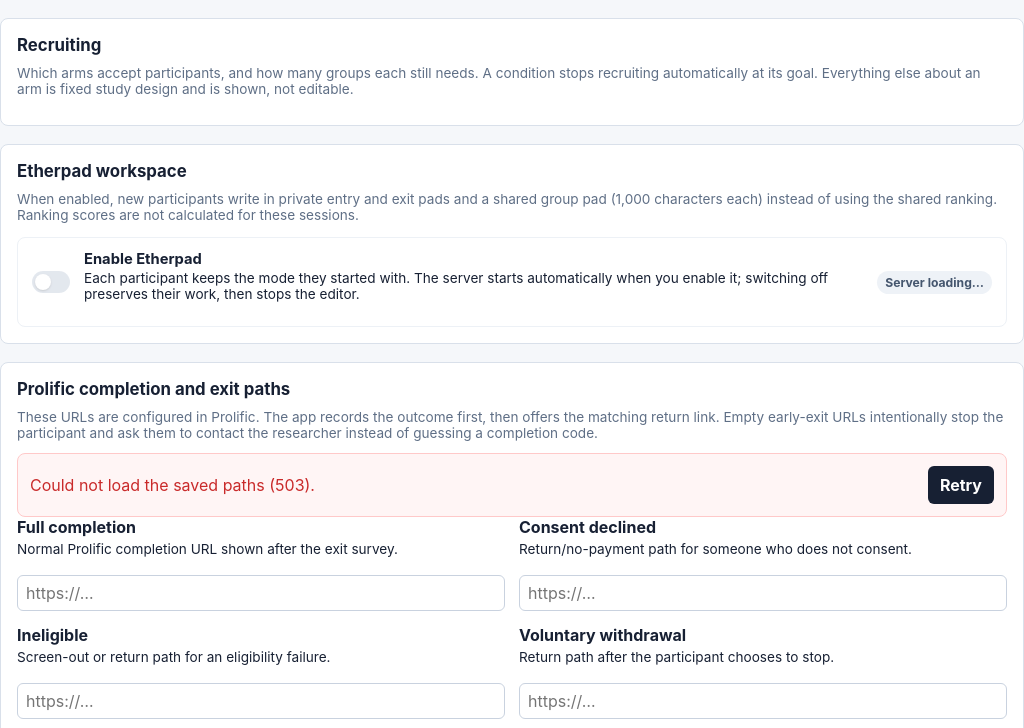
CompensationCard load failure › explains a failed load and retries it
Expected: the message "Could not load the saved paths (503). Retry" is shown, [17,453,1007,517]
Expected: the field labelled "Full completion" is disabled, [17,574,505,611]
What coordinates should you click on to do the following:
click the button "Retry"
I would click on:
 (961, 485)
Its box is [928,466,994,504].
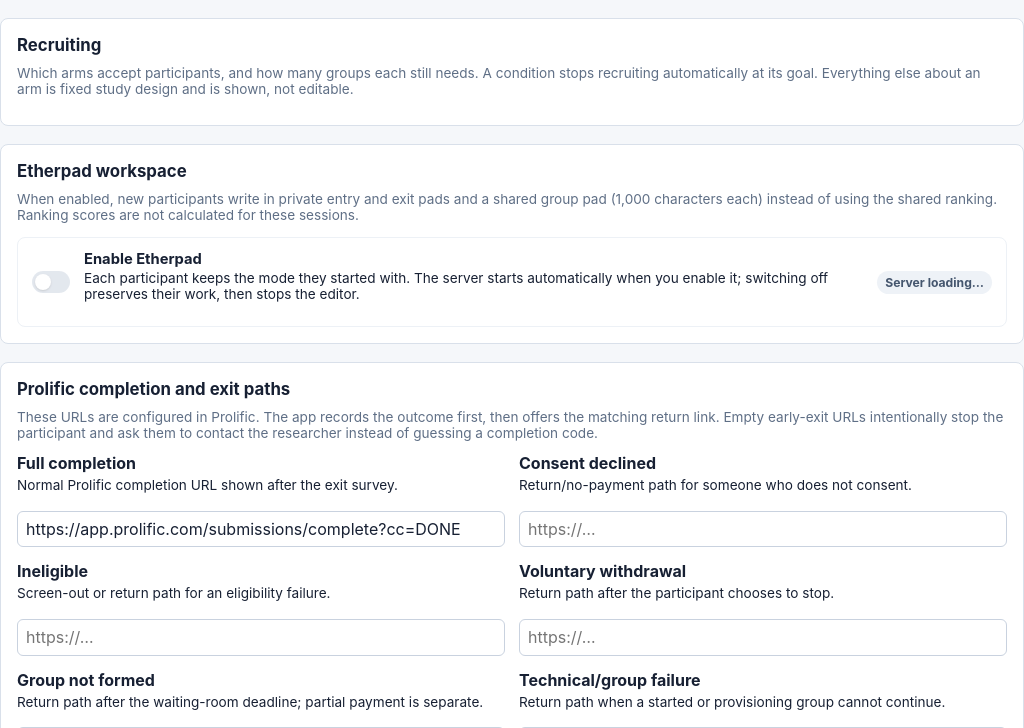
Expected: the field labelled "Full completion" is enabled, [17,511,505,547]
Expected: the message "Could not load the saved paths (503). Retry" is gone
Expected: the field labelled "Full completion" holds "https://app.prolific.com/submissions/complete?cc=DONE", [17,511,505,547]
